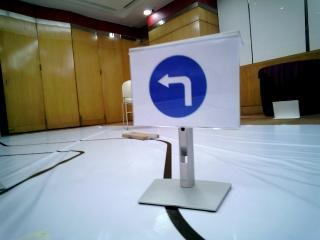left: (137, 56, 235, 122)
